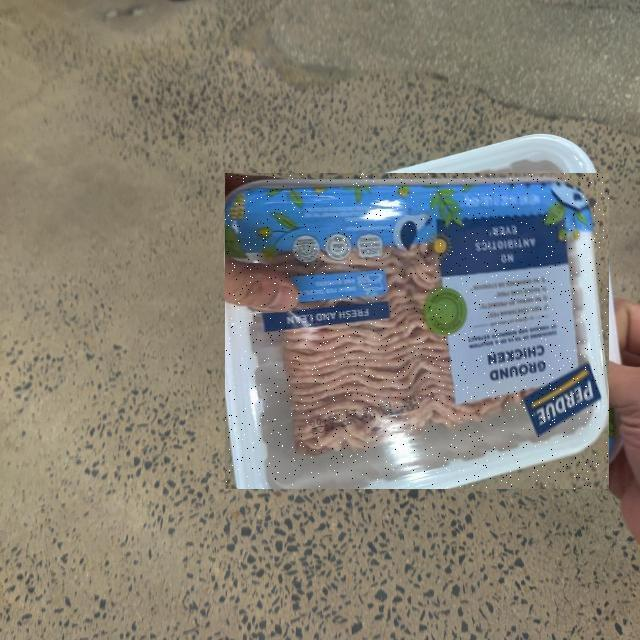Meat: (225, 173, 609, 489)
